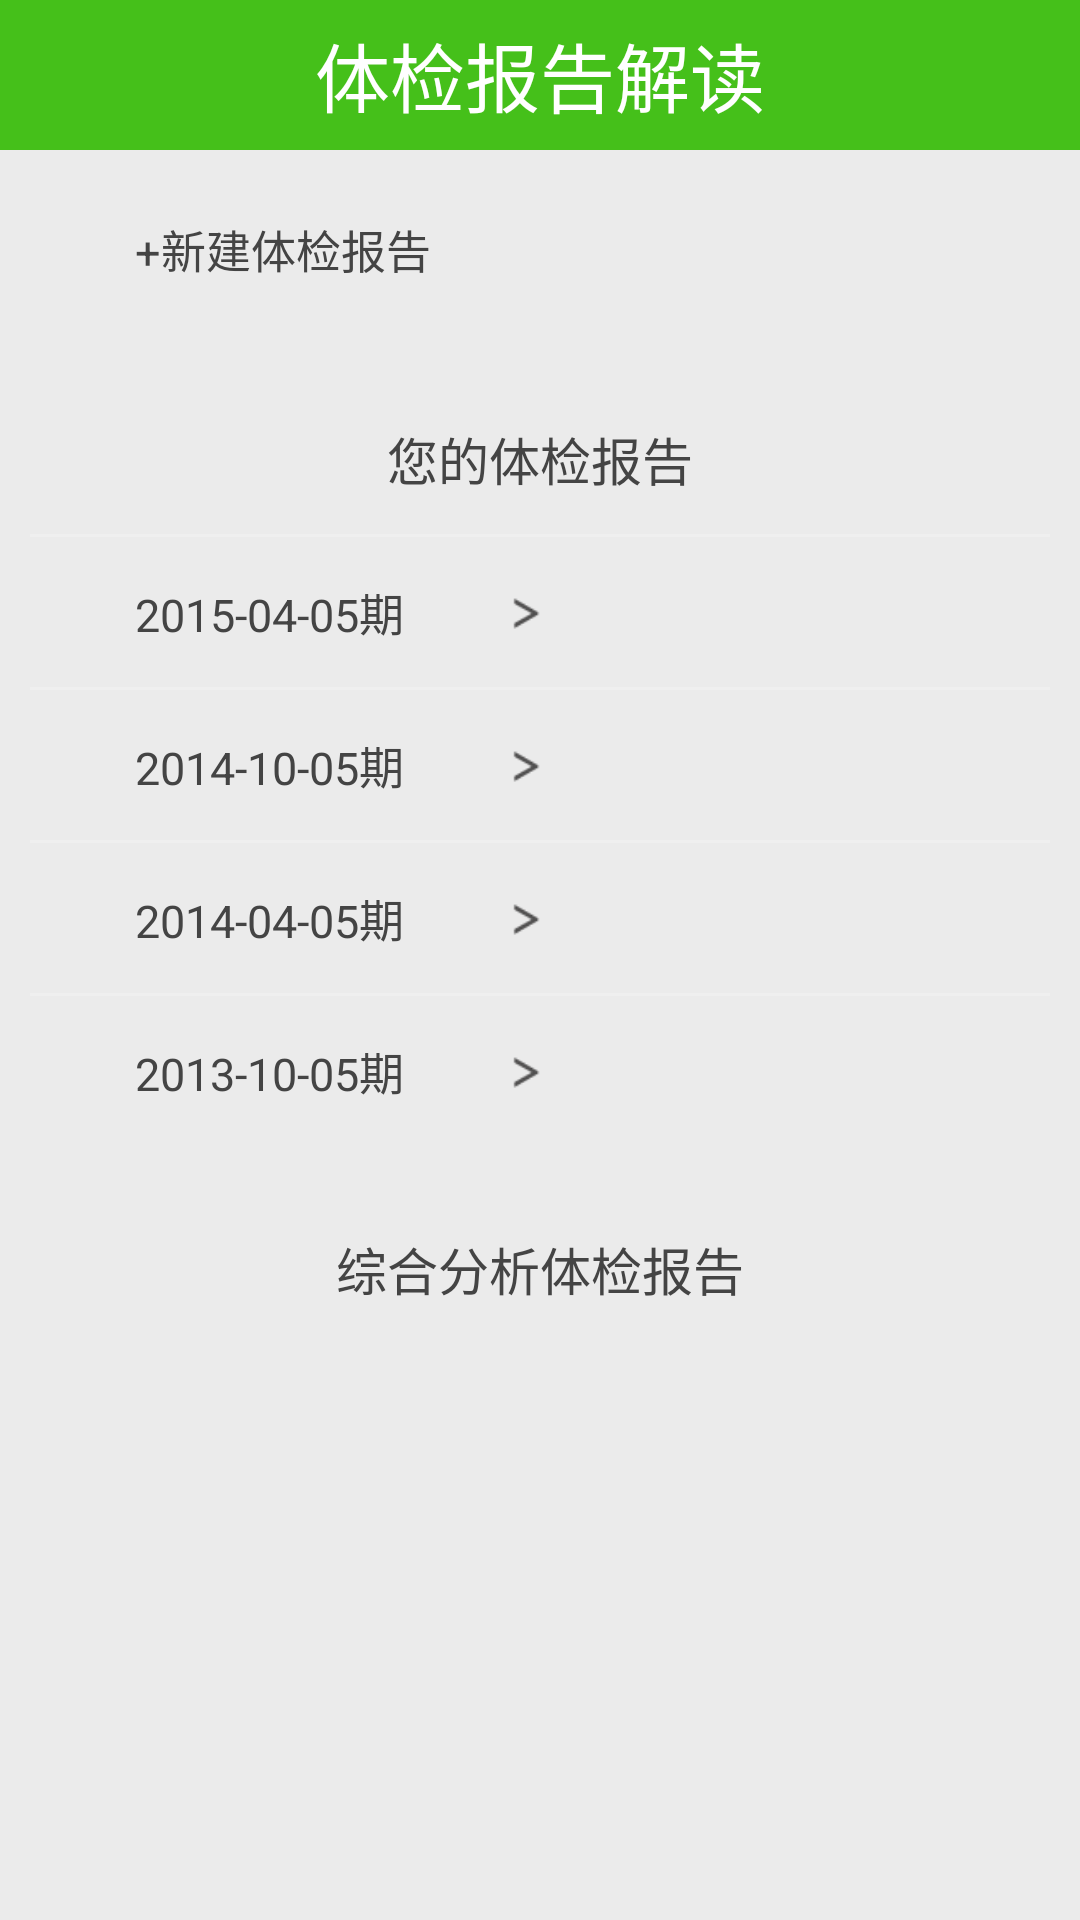

Screen size 1080px×1920px. Icon name, then its center in pixels as (x=x, y=y):
next: (x=526, y=613), (x=526, y=766), (x=526, y=919), (x=526, y=1072)
